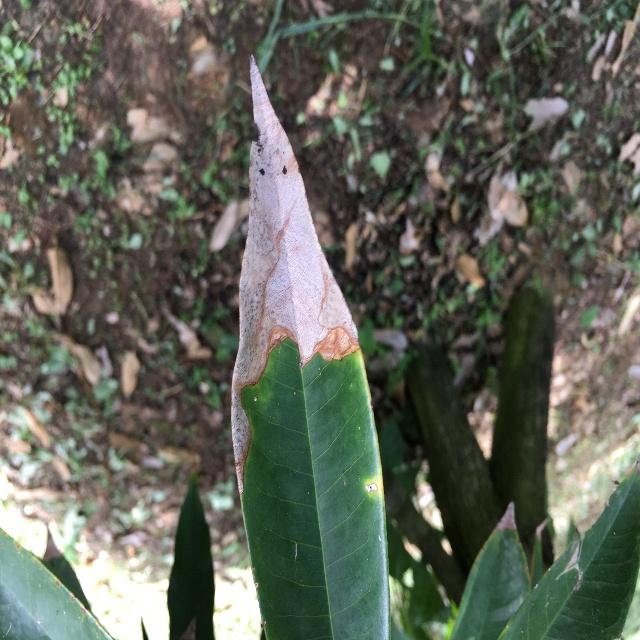Leaf Blight: (221, 43, 397, 640)
